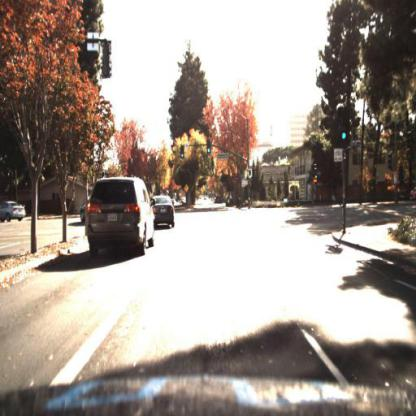car: (83, 173, 156, 256), (152, 198, 177, 232), (153, 195, 176, 231), (1, 201, 26, 225), (77, 194, 90, 225), (81, 200, 91, 224)
trafficLight: (341, 116, 353, 147), (248, 167, 254, 183)
trafficLight-Green: (338, 110, 351, 146), (206, 137, 213, 158), (248, 168, 256, 184), (180, 147, 186, 161), (207, 141, 212, 156)
trafficLight-GreenLeft: (180, 147, 185, 160)
